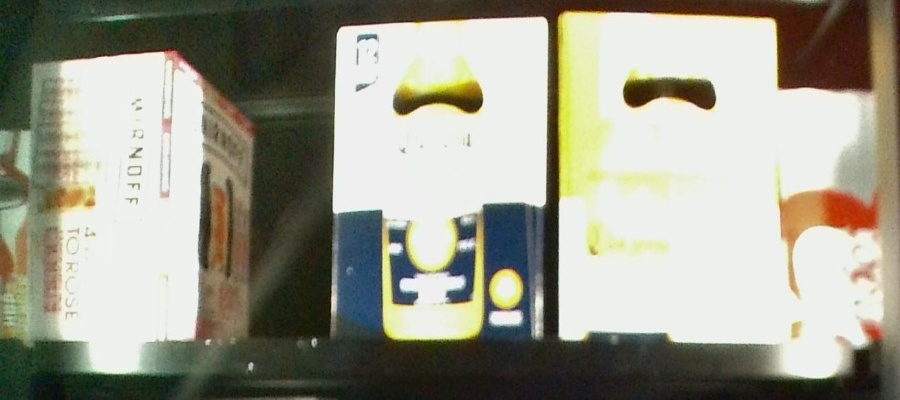bottle: (556, 10, 775, 343), (332, 16, 548, 336), (30, 56, 248, 343), (775, 89, 881, 348)
